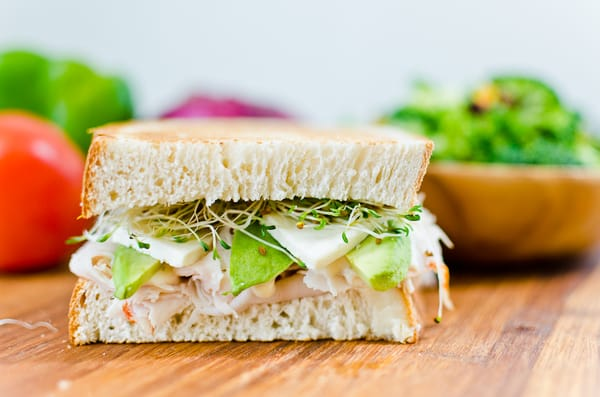soup: (66, 113, 448, 346)
taco: (0, 106, 88, 274)
